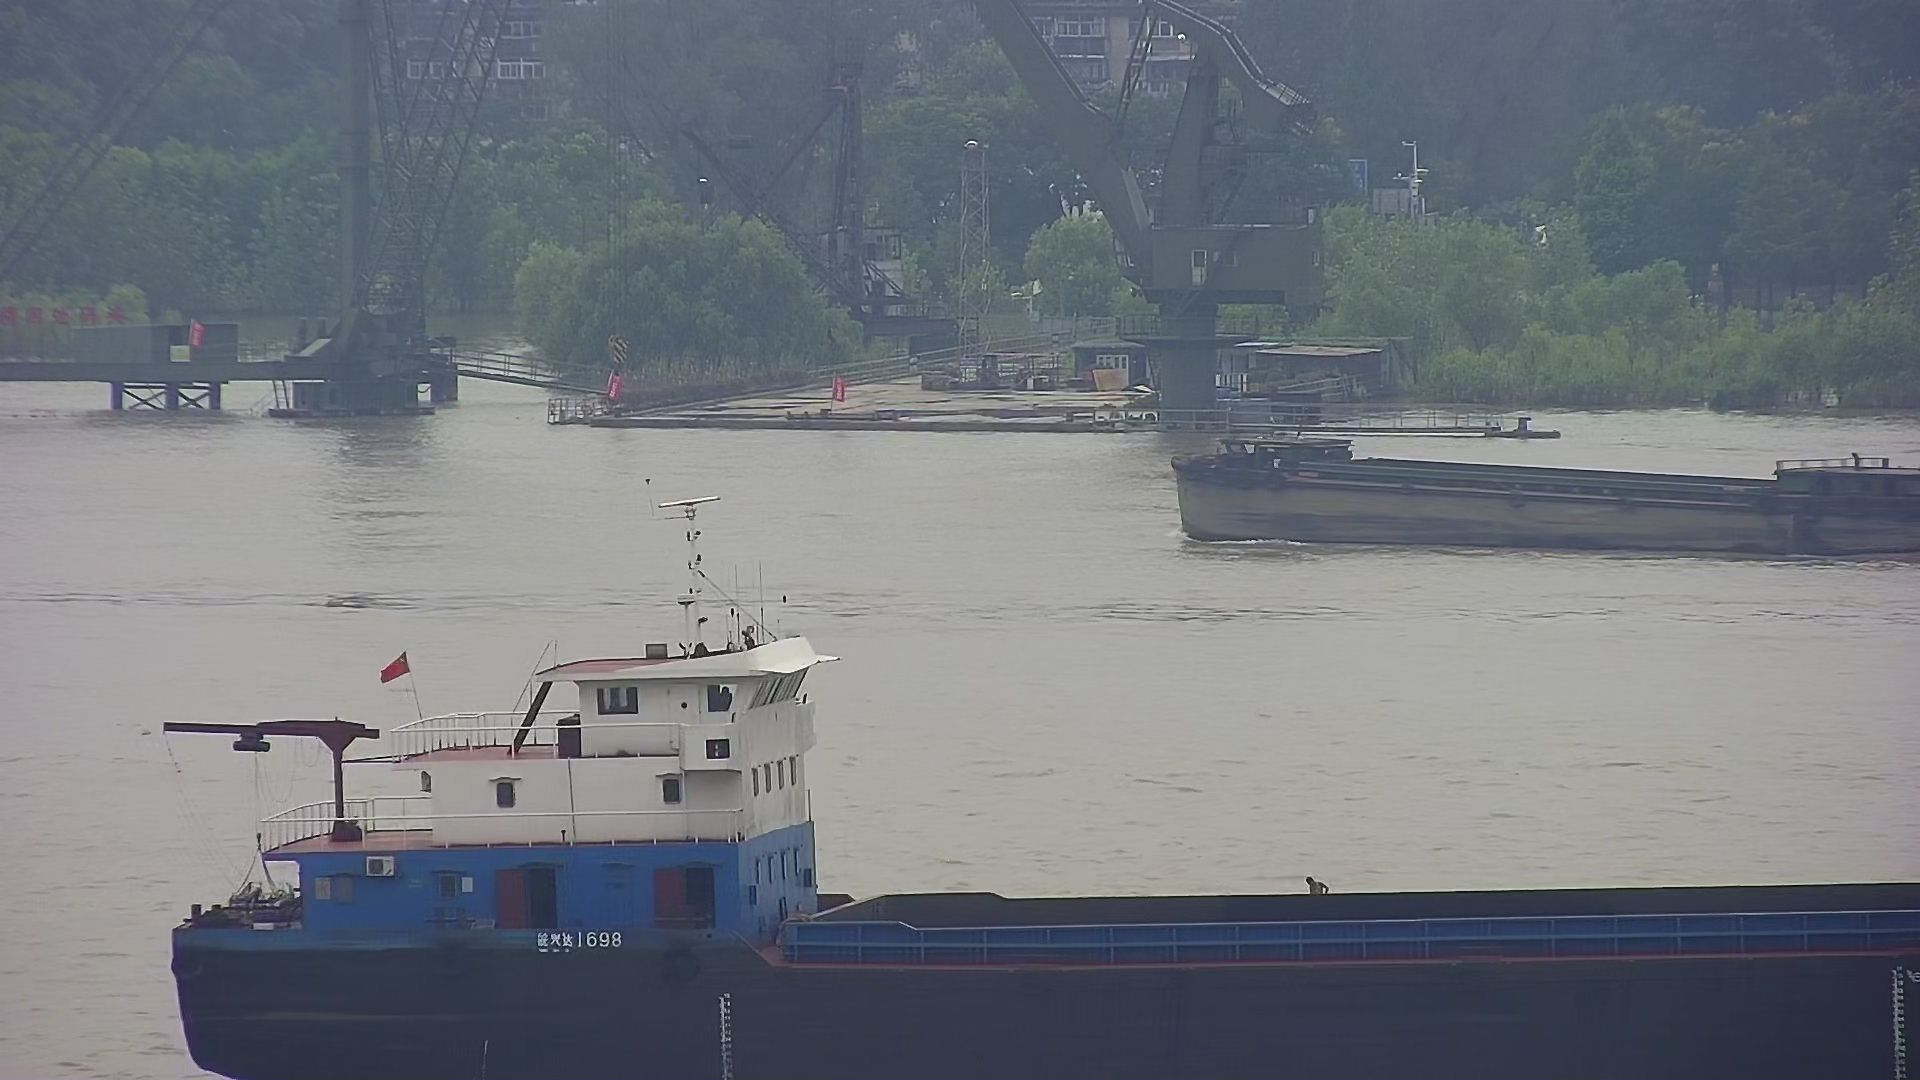platform: (1, 1, 483, 433)
ship: (117, 465, 1920, 1080), (1134, 429, 1920, 576)
